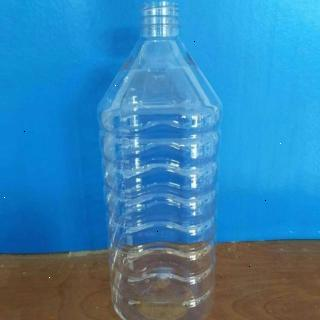Plastic-bottle: (93, 1, 229, 320)
